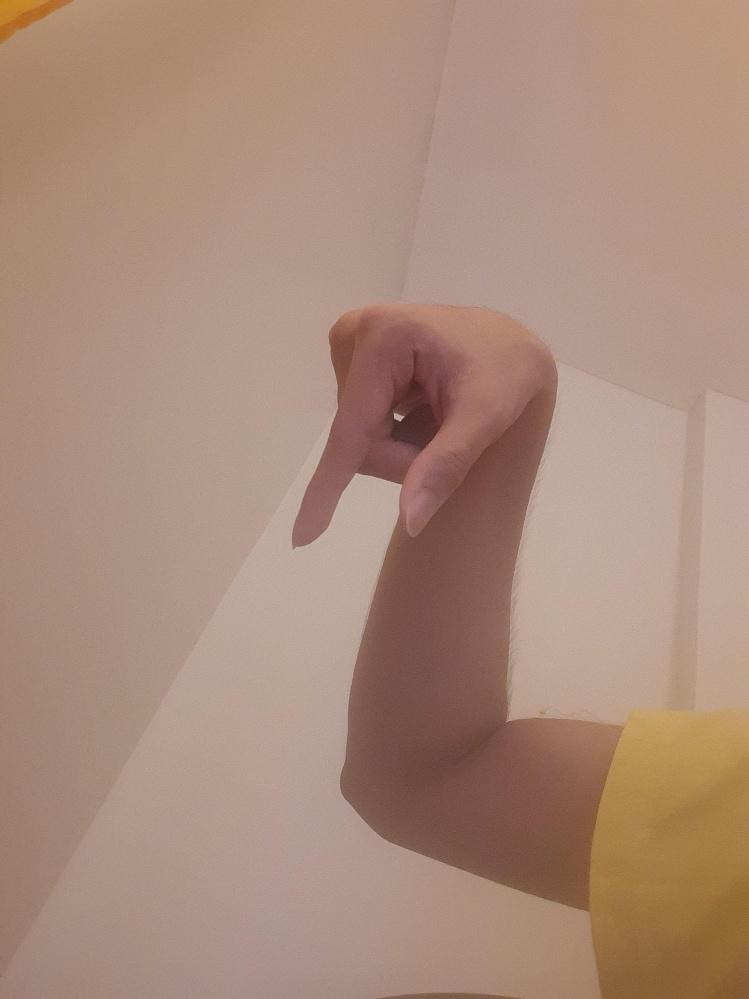q: (290, 301, 540, 549)
